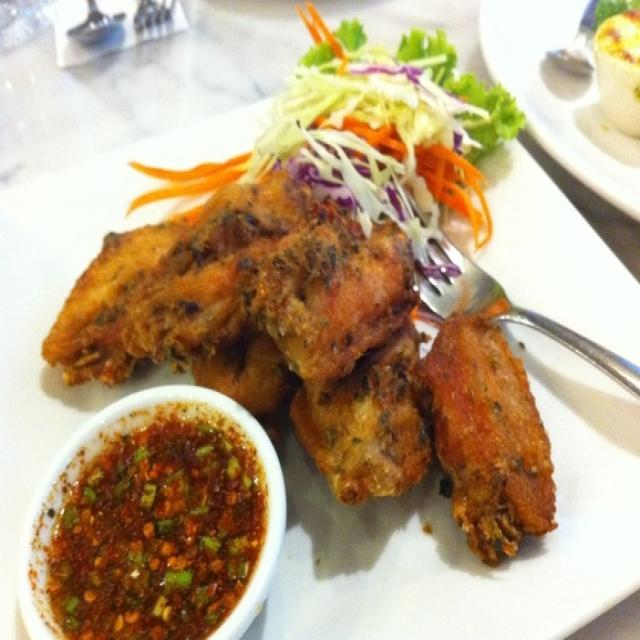鸡肉料理 含炸鸡: (23, 55, 606, 604)
